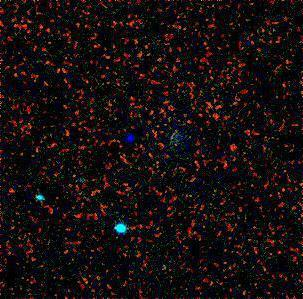star: (115, 123, 145, 153)
